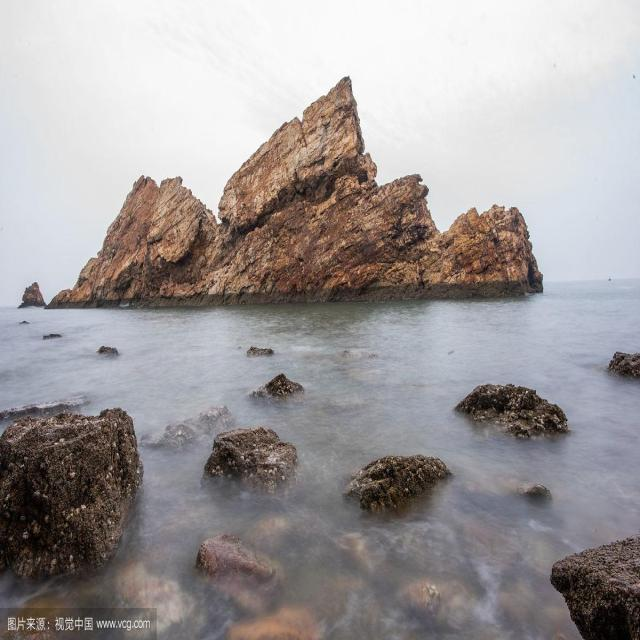reef: (62, 65, 533, 310)
